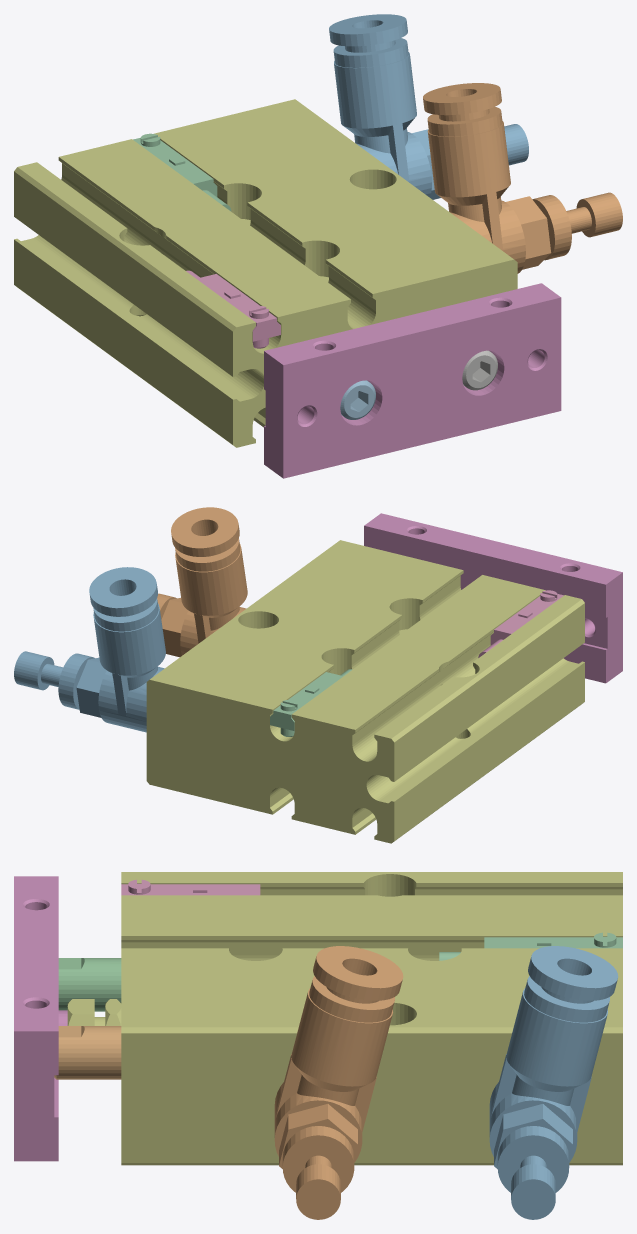
The model's file is case-02_ground_truth.glb.
3 renders of one model, top to bottom at view 1: azimuth 30°, elevation 25°; view 2: azimuth 150°, elevation 25°; view 3: azimuth 270°, elevation 25°, orthographic. The views are drawn at different scales.
Parts seen in each view (by area): view 1: c00001, c00002, c00009, c00010, c00007, c00008, c00005, c00006; view 2: c00001, c00010, c00002, c00009, c00008, c00007; view 3: c00001, c00009, c00010, c00002, c00003, c00004, c00008, c00007.
Boxes of the visible parts, box(x1,y1,x2,y2) form: c00001: box(14, 99, 517, 447); c00002: box(264, 283, 561, 478); c00009: box(423, 83, 622, 273); c00010: box(329, 14, 528, 199); c00007: box(186, 270, 280, 348); c00008: box(133, 133, 231, 211); c00005: box(462, 350, 497, 390); c00006: box(340, 380, 375, 419); c00001: box(146, 540, 584, 843); c00010: box(14, 567, 165, 732); c00002: box(364, 513, 622, 683); c00009: box(157, 507, 247, 657); c00008: box(270, 669, 352, 736); c00007: box(478, 590, 563, 657); c00001: box(67, 872, 622, 1165); c00009: box(274, 946, 403, 1219); c00010: box(489, 946, 618, 1219); c00002: box(14, 876, 67, 1161); c00003: box(54, 1026, 121, 1079); c00004: box(58, 958, 121, 1011); c00008: box(439, 932, 622, 960); c00007: box(121, 879, 260, 895).
Size of the model in its own units: 68.8 by 29.11 by 68.
